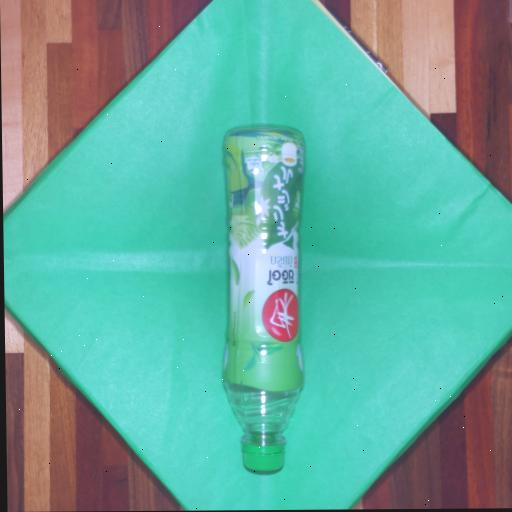bottle: (197, 105, 332, 486)
